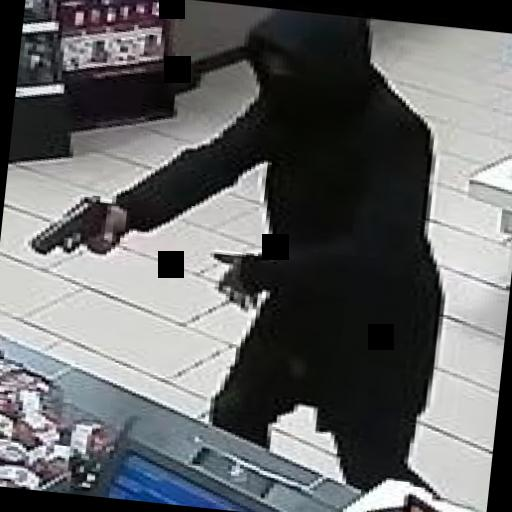Handgun: (23, 187, 125, 262)
